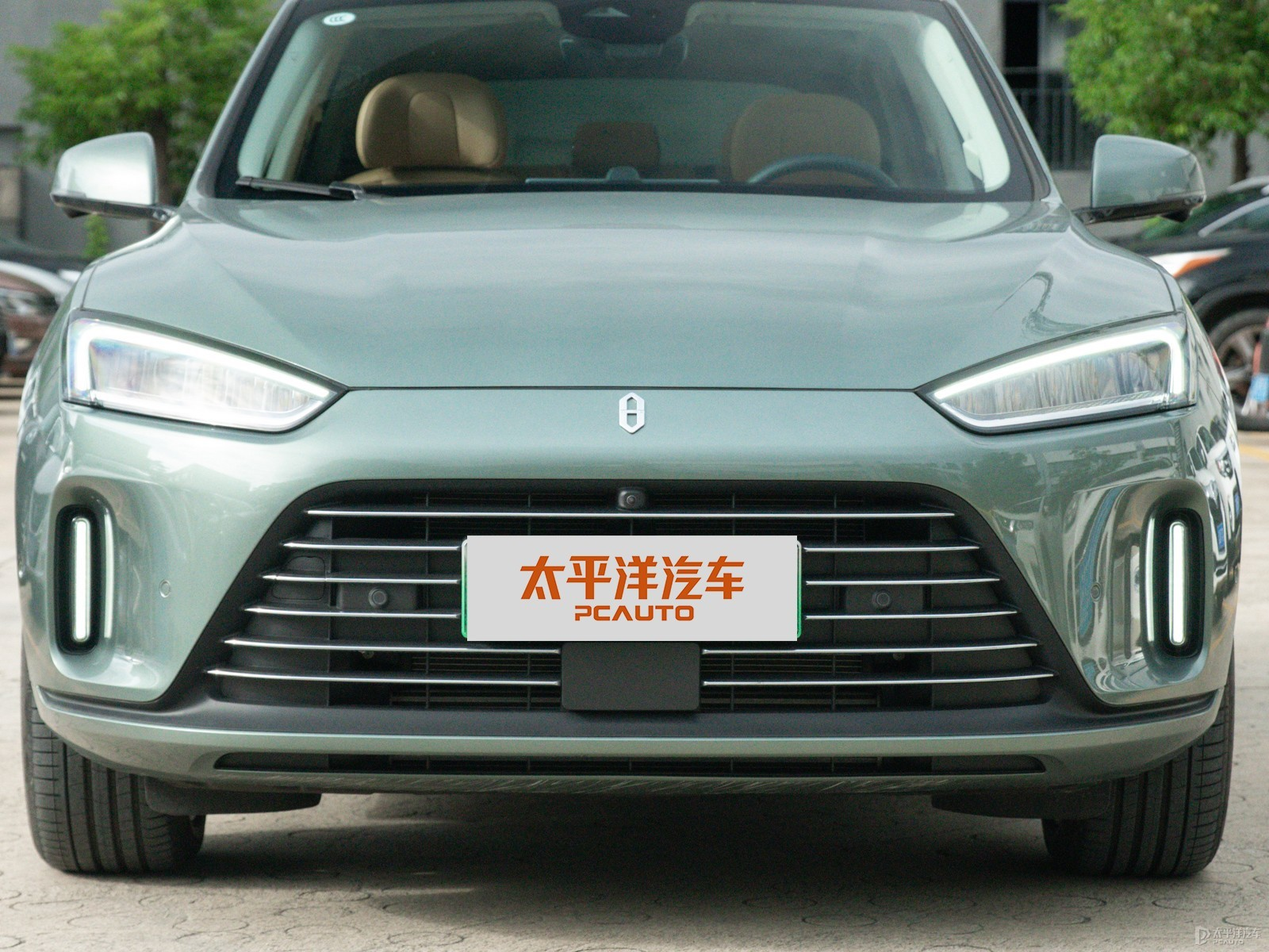AITO: (619, 393, 645, 433)
